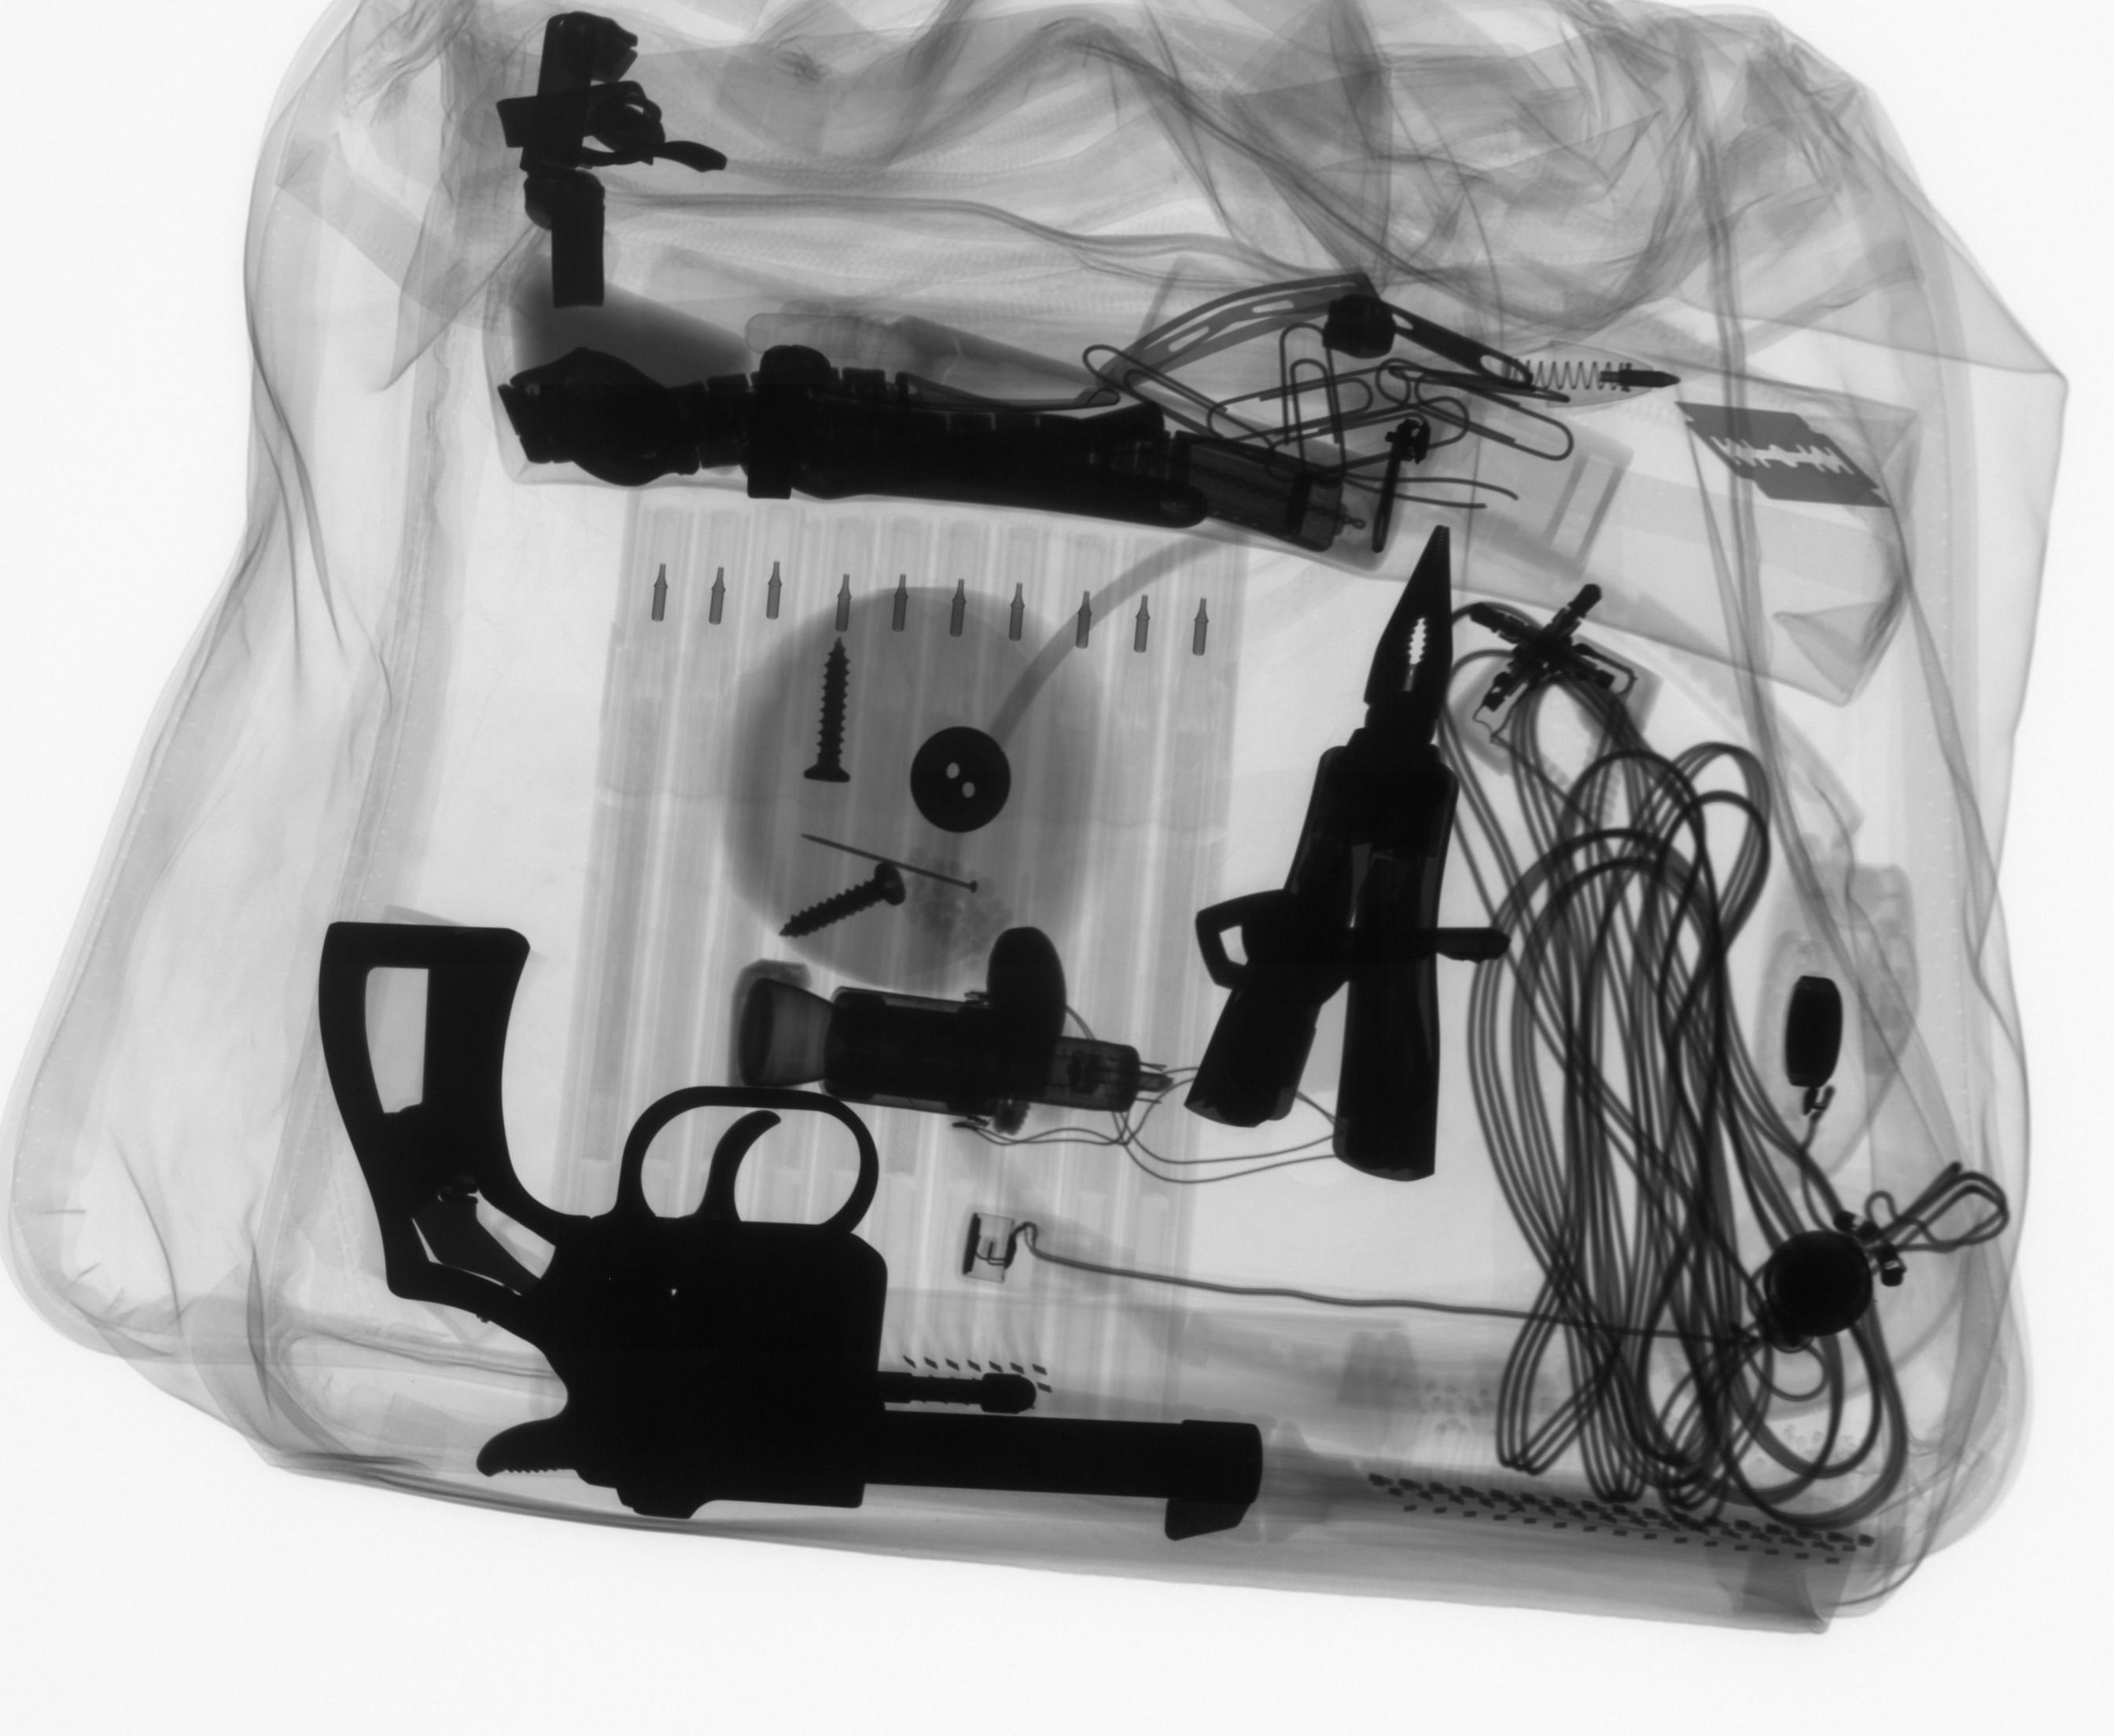Handgun: (304, 909, 1276, 1555)
RazorBlade: (1668, 391, 1903, 513)
